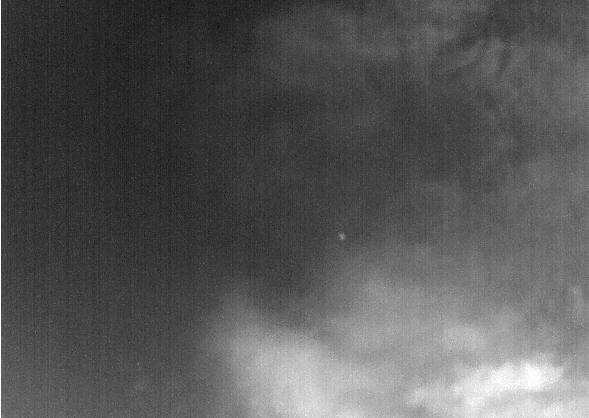dim target: (339, 233, 346, 241)
